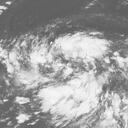cyclone: (30, 32, 109, 107)
